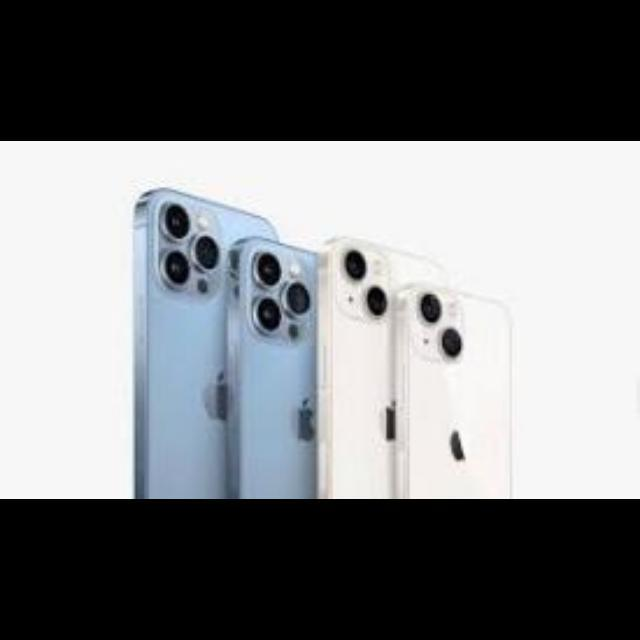Phone: (136, 188, 228, 498), (401, 285, 512, 499), (234, 239, 316, 499), (325, 236, 397, 498)
